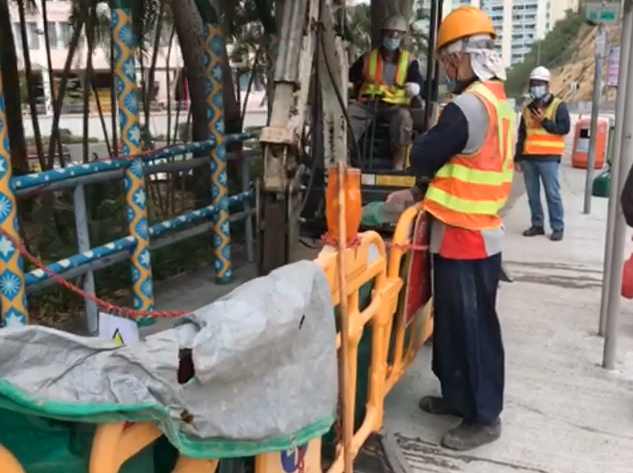Hard Hat: (436, 8, 497, 83), (381, 14, 407, 54), (527, 67, 552, 99)
Person: (425, 9, 515, 450), (349, 15, 421, 171), (516, 67, 571, 243)
Vest: (423, 58, 516, 227), (358, 31, 414, 105), (518, 85, 565, 156)
